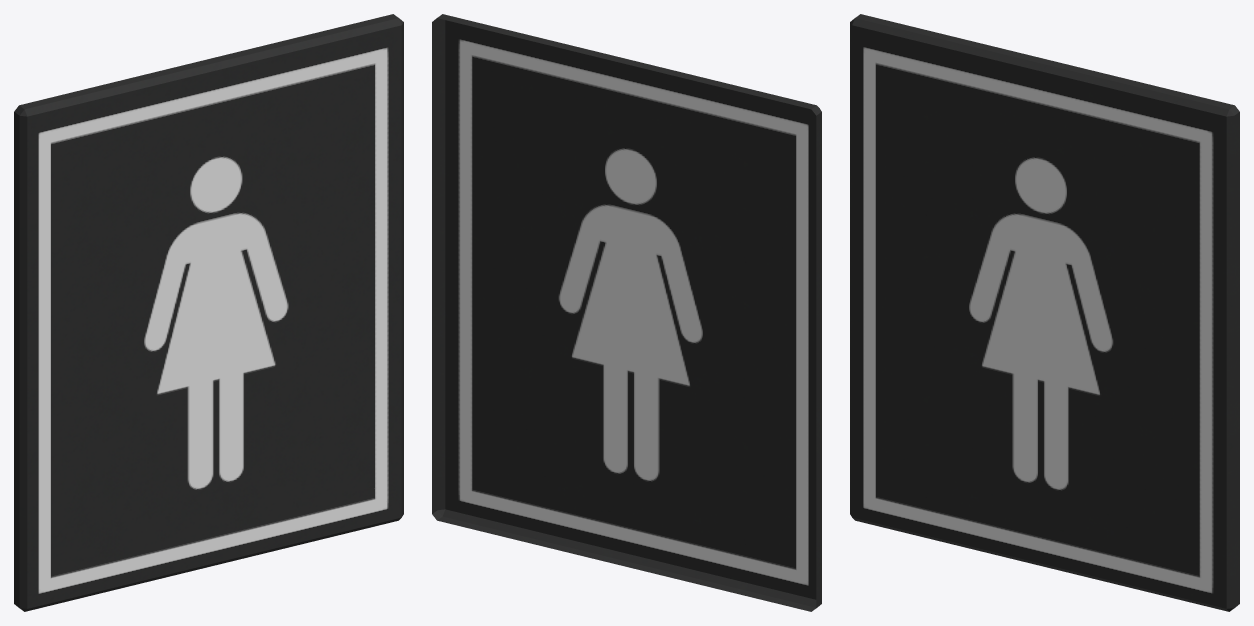
The model's file is WC1Female.FBX.
The picture shows the model from 3 angles, left to right: view 1: azimuth 30°, elevation 25°; view 2: azimuth 150°, elevation 25°; view 3: azimuth 330°, elevation 25°; orthographic projection.
Visible parts, largest first — view 1: WC1Female; view 2: WC1Female; view 3: WC1Female.
Part boxes in pixels (box(x1,y1,x2,y2)): WC1Female: box(14, 14, 403, 611); WC1Female: box(432, 14, 821, 611); WC1Female: box(850, 14, 1239, 611).
Bounding box in the file's own units: 12 × 15 × 0.4533.
